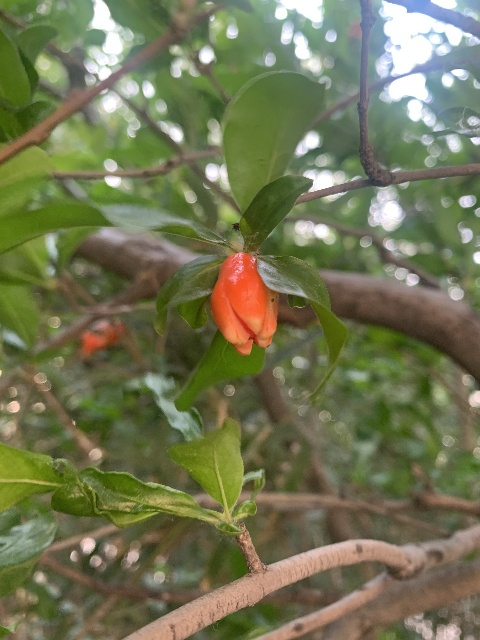flower: (209, 252, 278, 355)
